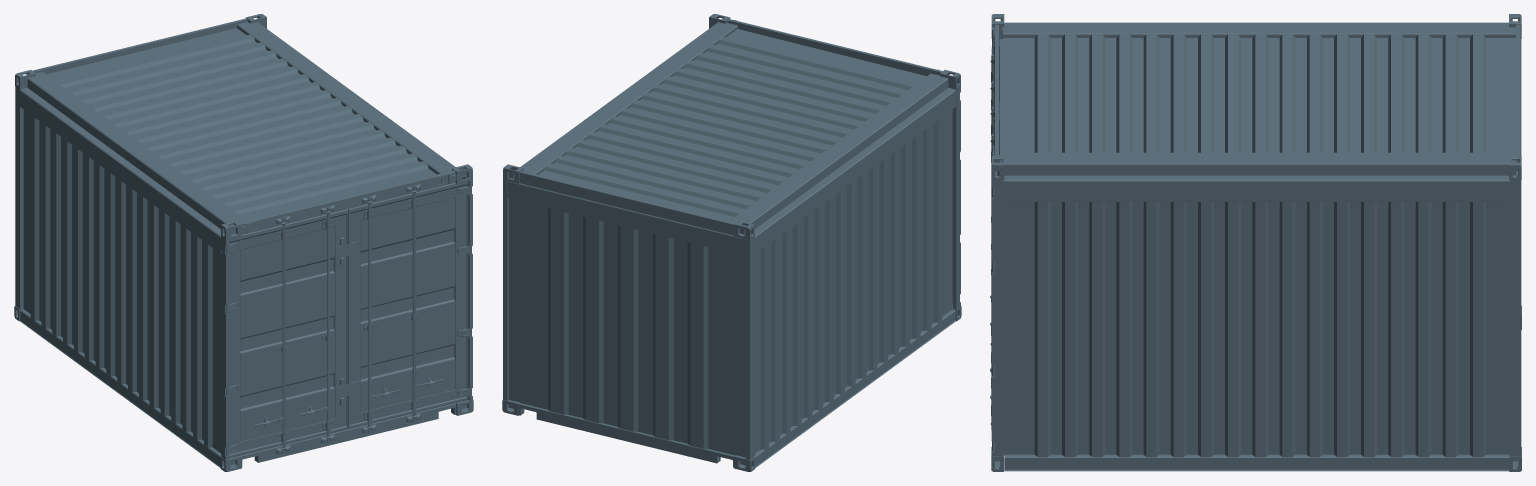
File: container.glb
3 renders of one model, left to right at view 1: azimuth 30°, elevation 25°; view 2: azimuth 150°, elevation 25°; view 3: azimuth 270°, elevation 25°, orthographic. The views are drawn at different scales.
Visible parts, largest first — view 1: container; view 2: container; view 3: container.
Boxes of the visible parts, bbox=[...] form: container: bbox=[14, 14, 473, 471]; container: bbox=[502, 14, 961, 471]; container: bbox=[990, 14, 1521, 471].
Bounding box in the file's own units: 2.56 × 2.4 × 3.78.
